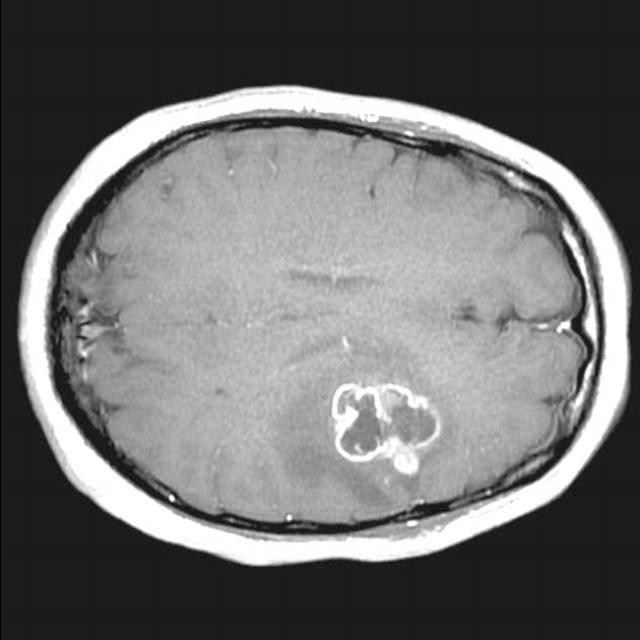tumor: (326, 380, 440, 473)
